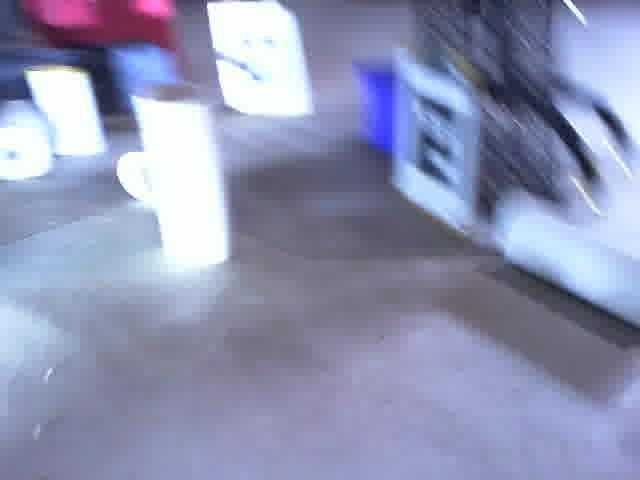coral: (125, 82, 238, 266), (499, 197, 640, 330), (117, 144, 161, 208)
